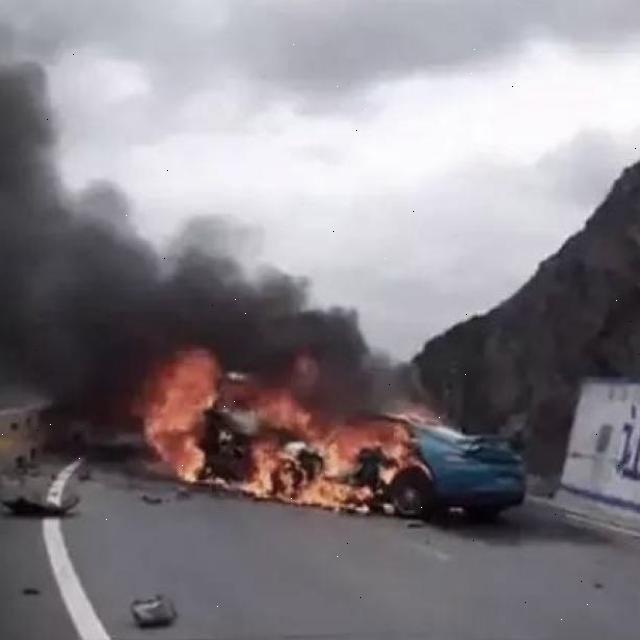fire: (142, 373, 514, 535)
smoke: (54, 245, 412, 376), (0, 70, 101, 443)
